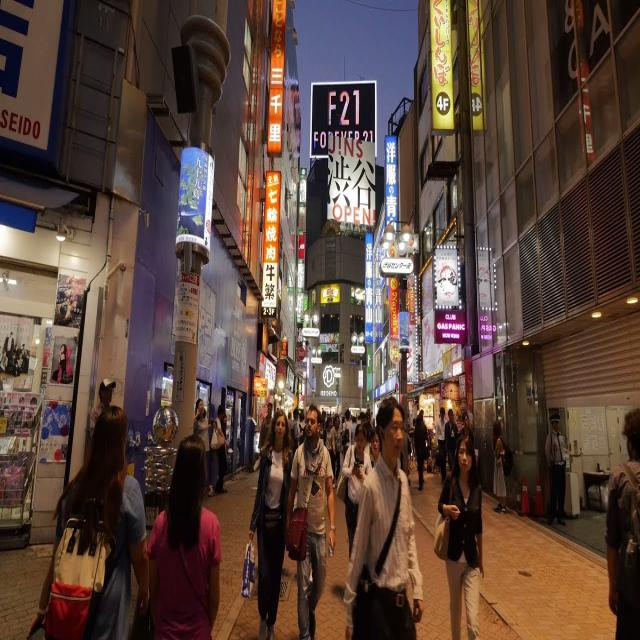body: (21, 400, 153, 639), (341, 393, 427, 639), (146, 433, 223, 640), (0, 271, 84, 434), (282, 402, 338, 639), (239, 406, 295, 639), (432, 429, 486, 639), (602, 404, 640, 639), (284, 406, 426, 468), (335, 422, 373, 595), (543, 412, 569, 528), (209, 402, 231, 498), (492, 421, 514, 516), (88, 377, 116, 442), (413, 414, 429, 492), (218, 410, 230, 495), (192, 398, 210, 454), (444, 408, 459, 473), (436, 406, 448, 486), (332, 414, 344, 490), (257, 401, 273, 452), (341, 408, 354, 463), (458, 411, 476, 449), (324, 415, 336, 463), (401, 468, 413, 490)
